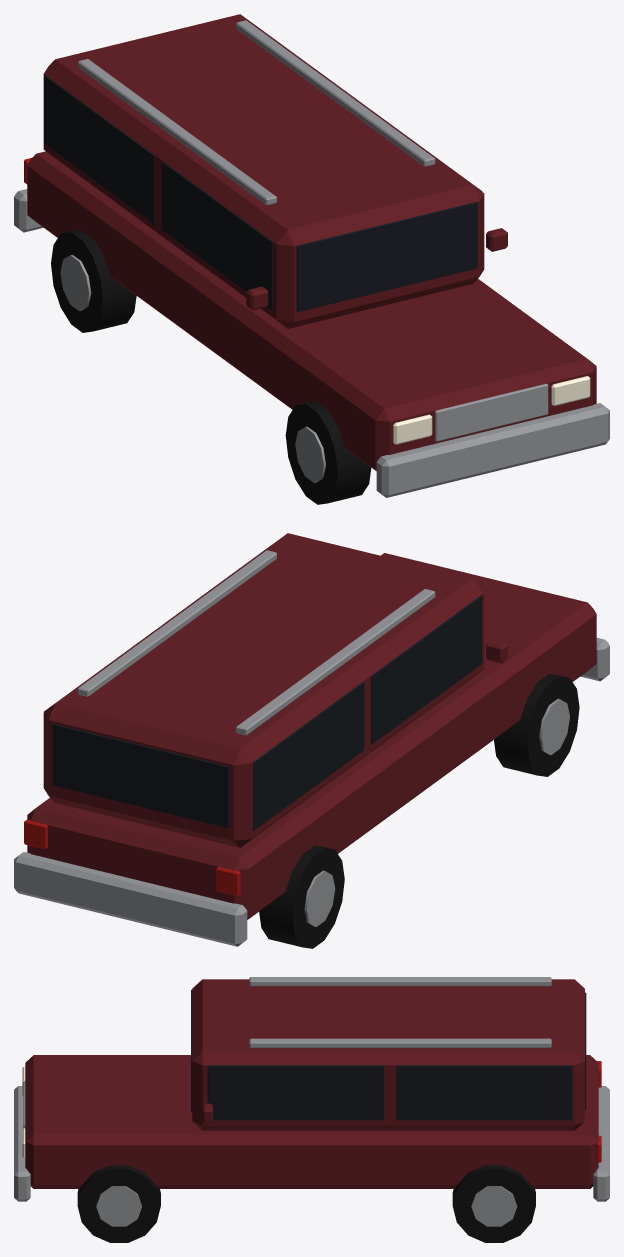
Rendered from suv_maroon.dae.
3 renders of one model, top to bottom at view 1: azimuth 30°, elevation 25°; view 2: azimuth 150°, elevation 25°; view 3: azimuth 270°, elevation 25°, orthographic. The views are drawn at different scales.
Visible parts, largest first — view 1: marker; view 2: marker; view 3: marker.
Part boxes in pixels (x1,y1,x2,y2): marker: (14,14,609,504); marker: (14,533,609,948); marker: (14,977,609,1242).
Bounding box in the file's own units: 2.28 × 5.72 × 1.97.
Materials: 1 (1 with a texture image).
